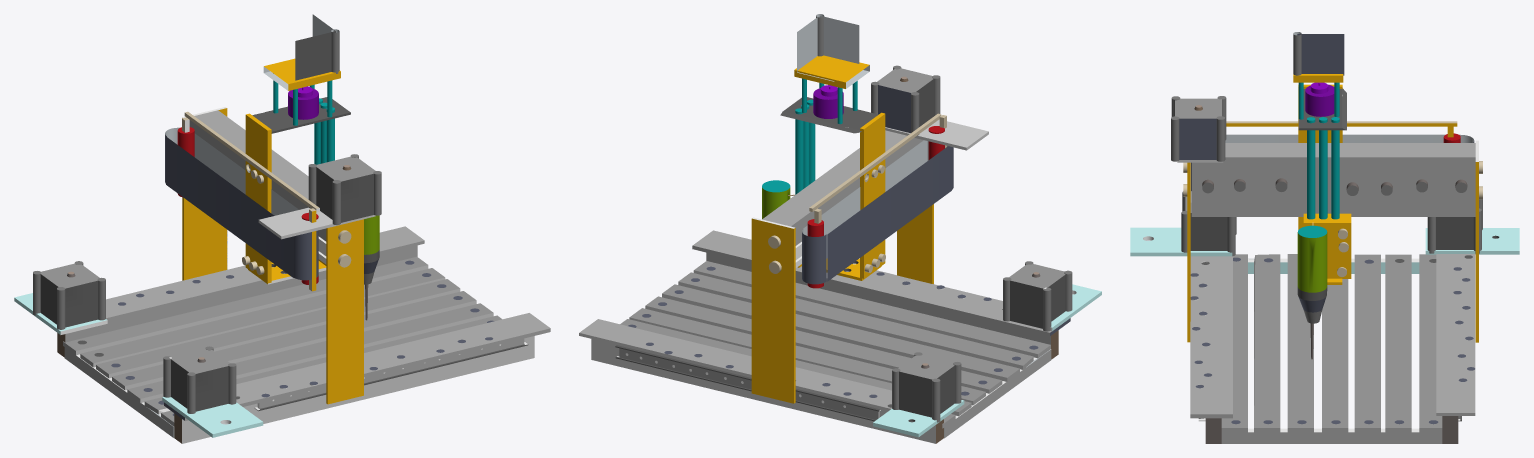
File: maquina_003.gltf
The picture shows the model from 3 angles, left to right: view 1: azimuth 30°, elevation 25°; view 2: azimuth 150°, elevation 25°; view 3: azimuth 270°, elevation 25°; orthographic projection. The views are drawn at different scales.
Visible parts, largest first — view 1: Mesh4 Group1 Model, Mesh11 Group1 Model, Mesh5 Group1 Model, Mesh6 Group1 Model, Mesh7 Group1 Model, Mesh24 Group1 Model, Mesh18 Group1 Model, Mesh22 Group1 Model, Mesh13 Group1 Model, Mesh1 Group1 Model, Mesh14 Group1 Model, Mesh10 Group1 Model (+7 smaller); view 2: Mesh4 Group1 Model, Mesh7 Group1 Model, Mesh11 Group1 Model, Mesh5 Group1 Model, Mesh22 Group1 Model, Mesh18 Group1 Model, Mesh24 Group1 Model, Mesh13 Group1 Model, Mesh2 Group1 Model, Mesh31 Group1 Model, Mesh6 Group1 Model, Mesh14 Group1 Model (+9 smaller); view 3: Mesh4 Group1 Model, Mesh7 Group1 Model, Mesh5 Group1 Model, Mesh15 Group1 Model, Mesh24 Group1 Model, Mesh16 Group1 Model, Mesh10 Group1 Model, Mesh14 Group1 Model, Mesh31 Group1 Model, Mesh11 Group1 Model, Mesh22 Group1 Model, Mesh18 Group1 Model (+8 smaller).
Part boxes in pixels (x1,y1,x2,y2): Mesh4 Group1 Model: (57,226,534,443); Mesh11 Group1 Model: (166,133,318,291); Mesh5 Group1 Model: (164,313,550,420); Mesh6 Group1 Model: (326,219,363,404); Mesh7 Group1 Model: (182,107,326,280); Mesh24 Group1 Model: (308,156,375,225); Mesh18 Group1 Model: (33,263,99,329); Mesh22 Group1 Model: (163,349,229,413); Mesh13 Group1 Model: (242,113,271,283); Mesh1 Group1 Model: (254,338,528,411); Mesh14 Group1 Model: (252,86,350,133); Mesh10 Group1 Model: (162,346,263,437); Mesh4 Group1 Model: (579,252,1058,443); Mesh7 Group1 Model: (751,130,923,403); Mesh11 Group1 Model: (803,115,953,281); Mesh5 Group1 Model: (692,230,1070,336); Mesh22 Group1 Model: (1009,264,1072,331); Mesh18 Group1 Model: (898,355,961,422); Mesh24 Group1 Model: (877,68,940,135); Mesh13 Group1 Model: (860,112,885,278); Mesh2 Group1 Model: (615,348,879,421); Mesh31 Group1 Model: (797,15,859,81); Mesh6 Group1 Model: (897,204,933,283); Mesh14 Group1 Model: (780,85,878,133); Mesh4 Group1 Model: (1205,254,1475,443); Mesh7 Group1 Model: (1191,140,1482,342); Mesh5 Group1 Model: (1190,256,1232,418); Mesh15 Group1 Model: (1297,213,1351,323); Mesh24 Group1 Model: (1171,96,1226,159); Mesh16 Group1 Model: (1307,117,1342,284); Mesh10 Group1 Model: (1130,217,1235,256); Mesh14 Group1 Model: (1298,82,1346,130); Mesh31 Group1 Model: (1297,34,1344,75); Mesh11 Group1 Model: (1190,134,1460,202); Mesh22 Group1 Model: (1182,191,1236,250); Mesh18 Group1 Model: (1436,199,1482,249).
Bounding box in the file's own units: 1.2 × 1.01 × 1.07.
